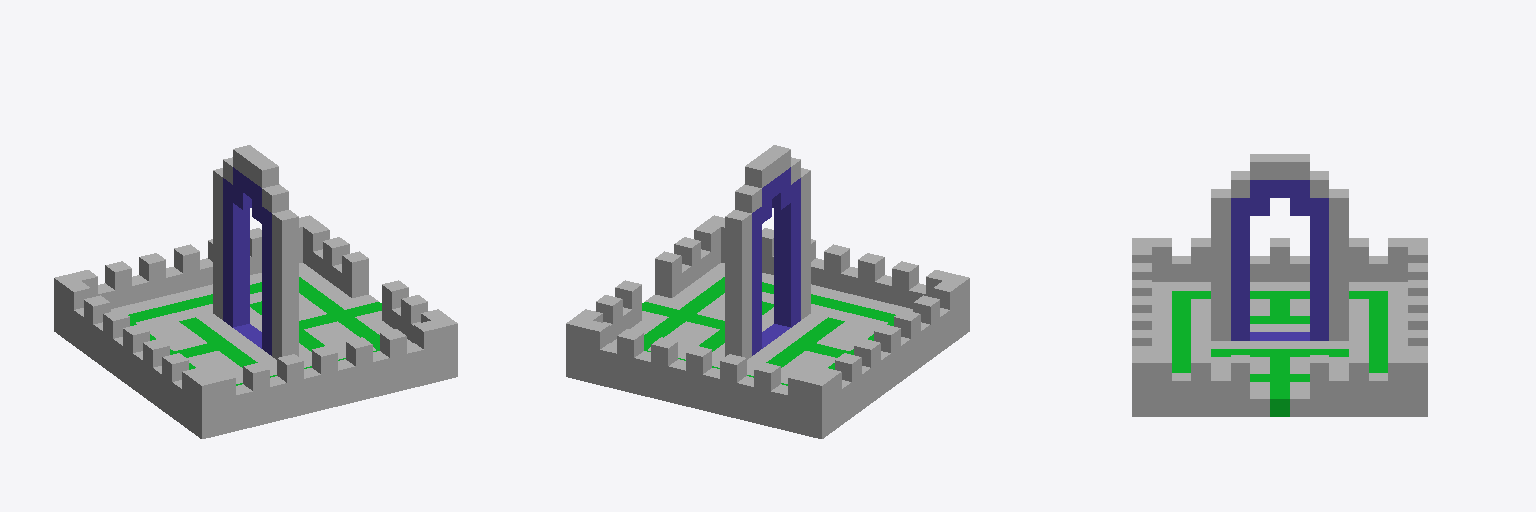
3 renders of one model, left to right at view 1: azimuth 30°, elevation 25°; view 2: azimuth 150°, elevation 25°; view 3: azimuth 270°, elevation 25°, orthographic.
Size of the model in its own units: 15 by 11 by 15.
1 materials, 1 textured.